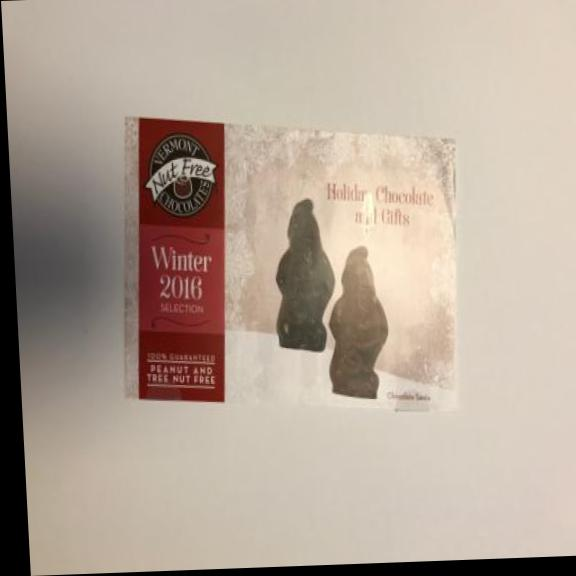Kertas: (106, 88, 468, 435)
